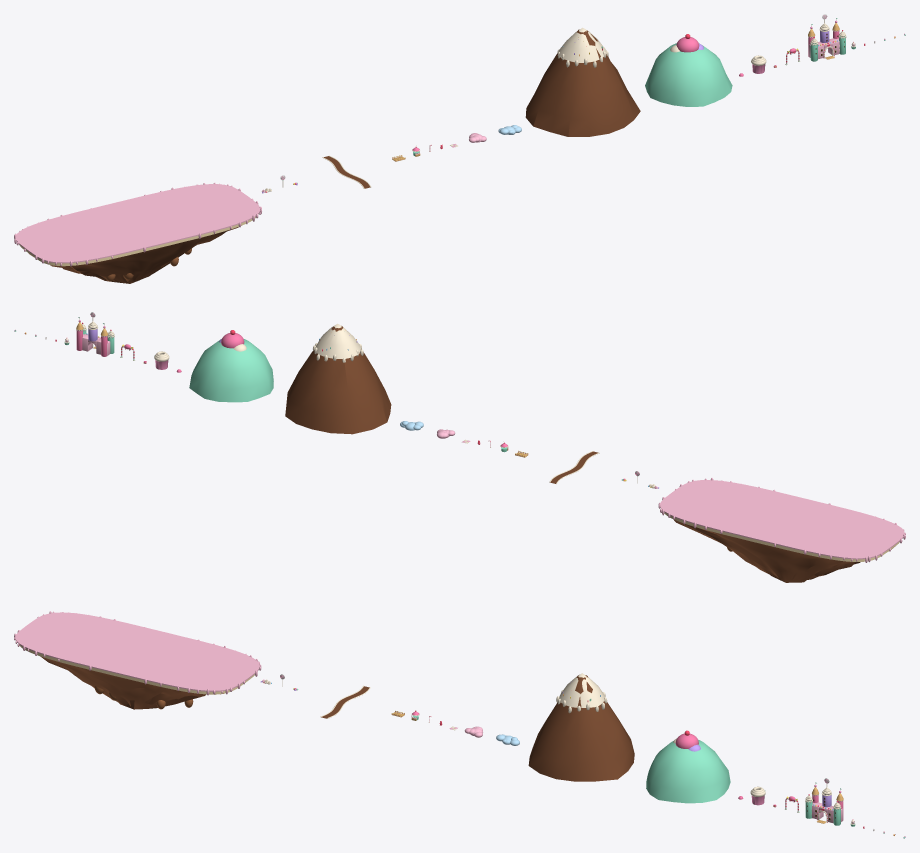
Rendered from Candy_Pack.fbx.
3 views of the same model, one above another, from view 1: azimuth 30°, elevation 25°; view 2: azimuth 150°, elevation 25°; view 3: azimuth 330°, elevation 25° (orthographic).
Visible parts, largest first — view 1: CandyIsland__Frosting__FFC2DASP, ChocoMountain__Choc__7A4A2ESP, IceCreamHill__Hill__8FE8C8SP, CandyIsland__Choc__7A4A2ESP, ChocoMountain__Frosting__FFF3DCSP, CandyIsland__Sponge__FFE9B8SP; view 2: CandyIsland__Frosting__FFC2DASP, ChocoMountain__Choc__7A4A2ESP, IceCreamHill__Hill__8FE8C8SP, CandyIsland__Choc__7A4A2ESP, ChocoMountain__Frosting__FFF3DCSP, CandyIsland__Sponge__FFE9B8SP; view 3: CandyIsland__Frosting__FFC2DASP, ChocoMountain__Choc__7A4A2ESP, IceCreamHill__Hill__8FE8C8SP, CandyIsland__Choc__7A4A2ESP, ChocoMountain__Frosting__FFF3DCSP, CandyIsland__Sponge__FFE9B8SP.
Boxes of the visible parts, <box> form: CandyIsland__Frosting__FFC2DASP: <box>15,184,260,263</box>; ChocoMountain__Choc__7A4A2ESP: <box>525,29,640,136</box>; IceCreamHill__Hill__8FE8C8SP: <box>645,43,732,106</box>; CandyIsland__Choc__7A4A2ESP: <box>28,227,238,283</box>; ChocoMountain__Frosting__FFF3DCSP: <box>557,27,608,67</box>; CandyIsland__Sponge__FFE9B8SP: <box>19,216,255,266</box>; CandyIsland__Frosting__FFC2DASP: <box>660,480,904,559</box>; ChocoMountain__Choc__7A4A2ESP: <box>285,326,391,434</box>; IceCreamHill__Hill__8FE8C8SP: <box>189,339,273,402</box>; CandyIsland__Choc__7A4A2ESP: <box>673,519,895,582</box>; ChocoMountain__Frosting__FFF3DCSP: <box>313,323,363,362</box>; CandyIsland__Sponge__FFE9B8SP: <box>664,512,899,561</box>; CandyIsland__Frosting__FFC2DASP: <box>15,612,259,691</box>; ChocoMountain__Choc__7A4A2ESP: <box>528,675,634,781</box>; IceCreamHill__Hill__8FE8C8SP: <box>646,739,730,803</box>; CandyIsland__Choc__7A4A2ESP: <box>40,656,223,709</box>; ChocoMountain__Frosting__FFF3DCSP: <box>556,673,607,713</box>; CandyIsland__Sponge__FFE9B8SP: <box>19,644,254,694</box>.
Size of the model in its own units: 1214 by 195 by 132.
